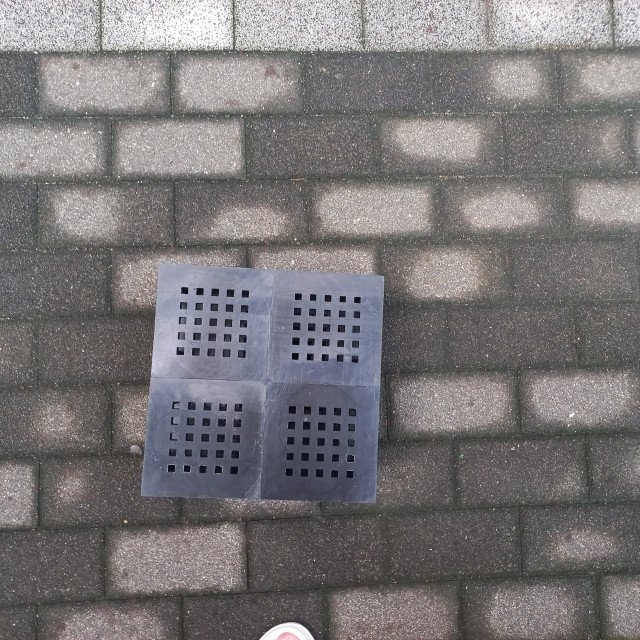pallet: (136, 259, 385, 506)
